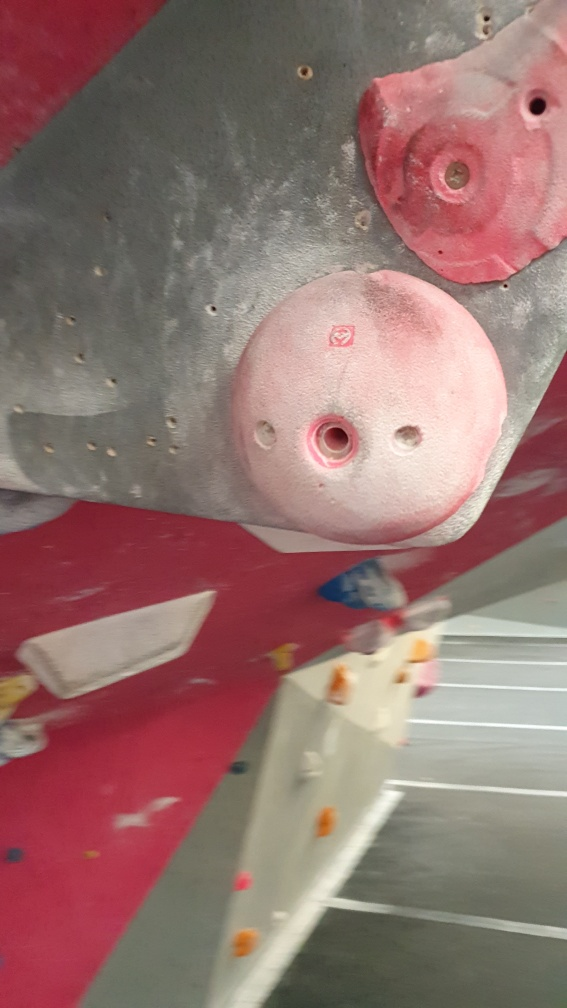Jug: (313, 555, 414, 614)
Pinch: (14, 580, 222, 701)
Sloper: (230, 268, 511, 548)
